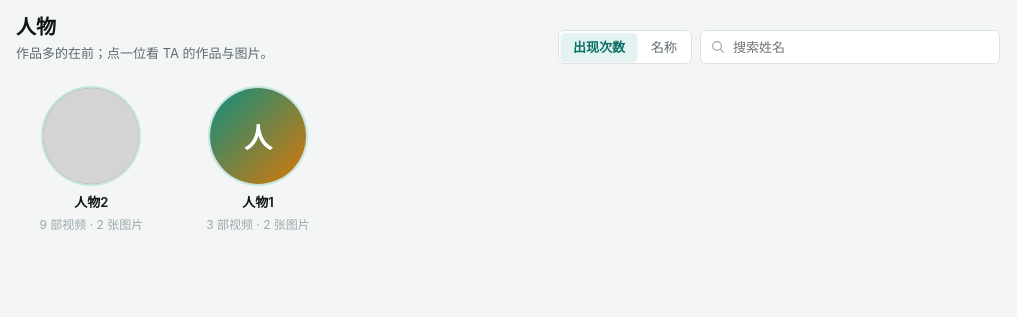
Test case: 人物观看页 › 搜索去抖后按关键词重取（沿用当前排序）；没有结果给「清空搜索」
The width and height of the screenshot is (1017, 317).
In the search field with test id "entity-browse-search": point(850, 46) top-left (700, 30), bottom-right (1000, 64), type "甲"
Wait 260 ms
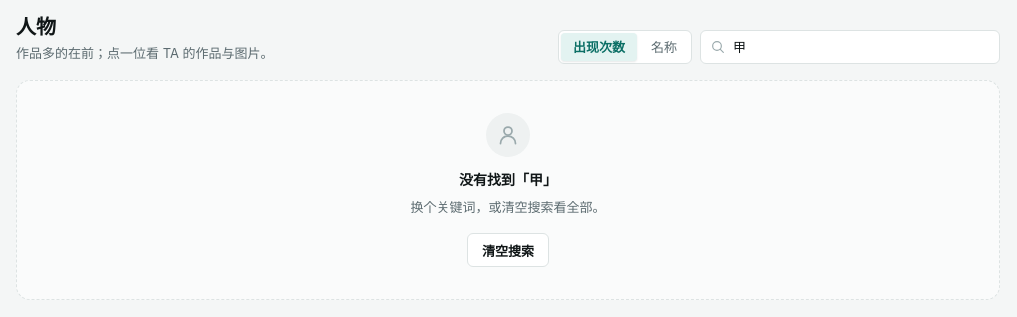
Expected: the element with test id "entity-browse-list-empty" shows "没有找到「甲」", top-left (459, 170), bottom-right (557, 188)
Click the button with test id "entity-browse-clear-search": point(508, 250) top-left (467, 233), bottom-right (549, 267)
Wait 260 ms
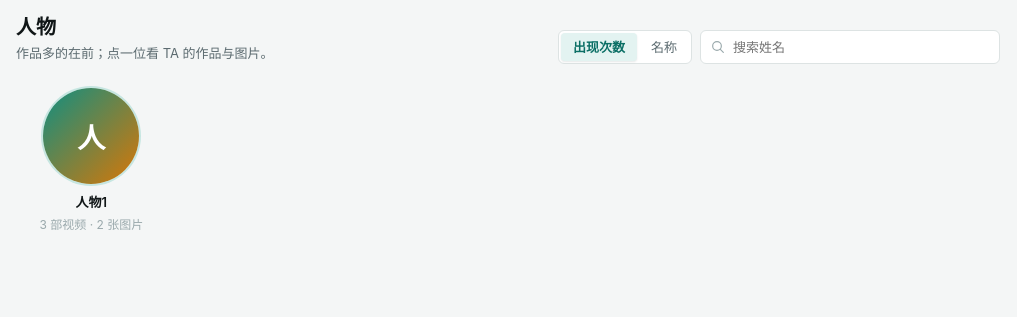
Expected: the button with test id "entity-browse-person-1" is shown, top-left (16, 80), bottom-right (167, 240)
